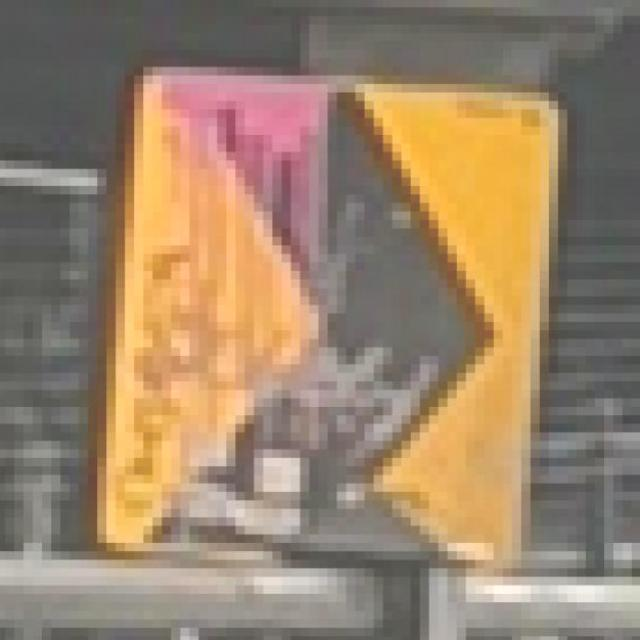Damage: (0, 0, 640, 640)
Vandalism: (0, 0, 640, 640)
